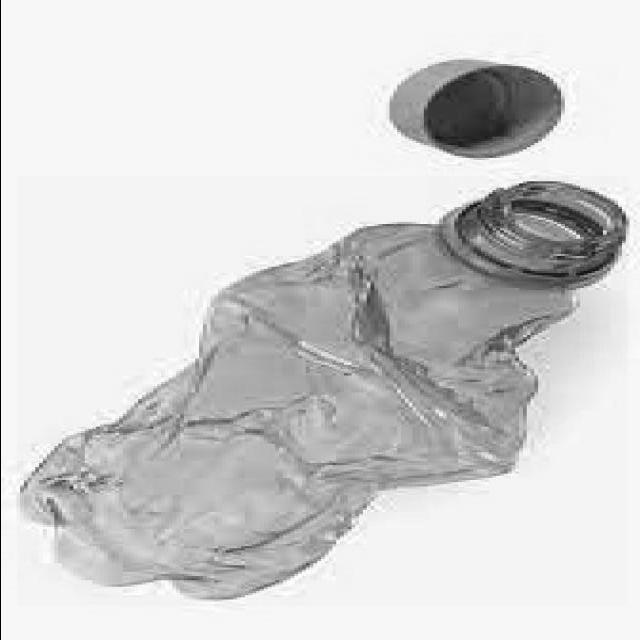defected: (16, 176, 627, 606)
